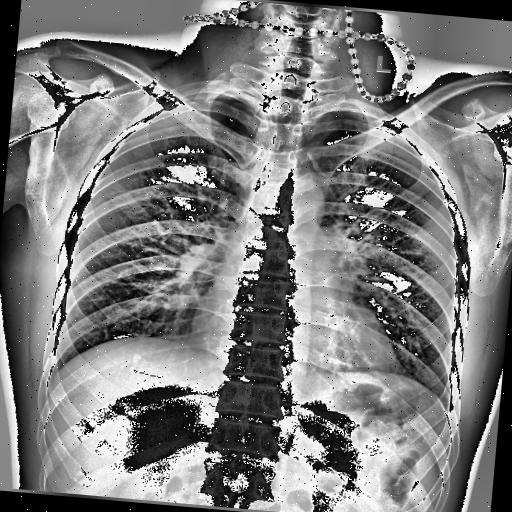11- Pleural thickening: (158, 88, 234, 118), (170, 86, 236, 114)
3- Cardiomegaly: (186, 300, 406, 380)
